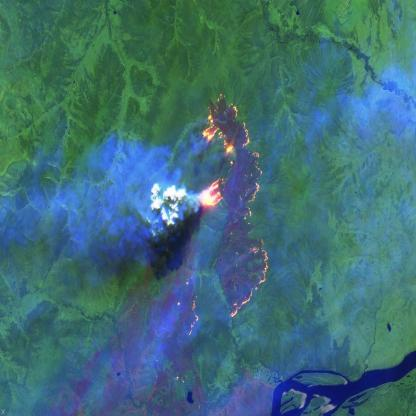fire: (178, 87, 273, 343)
